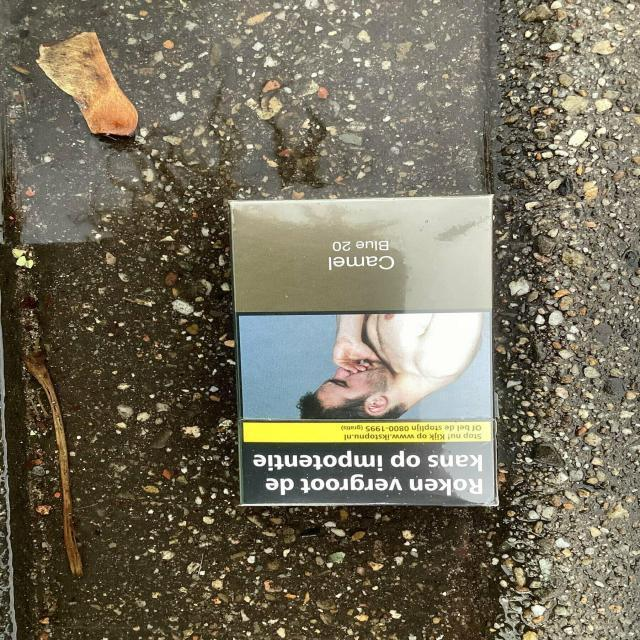Paper: (220, 190, 507, 513)
